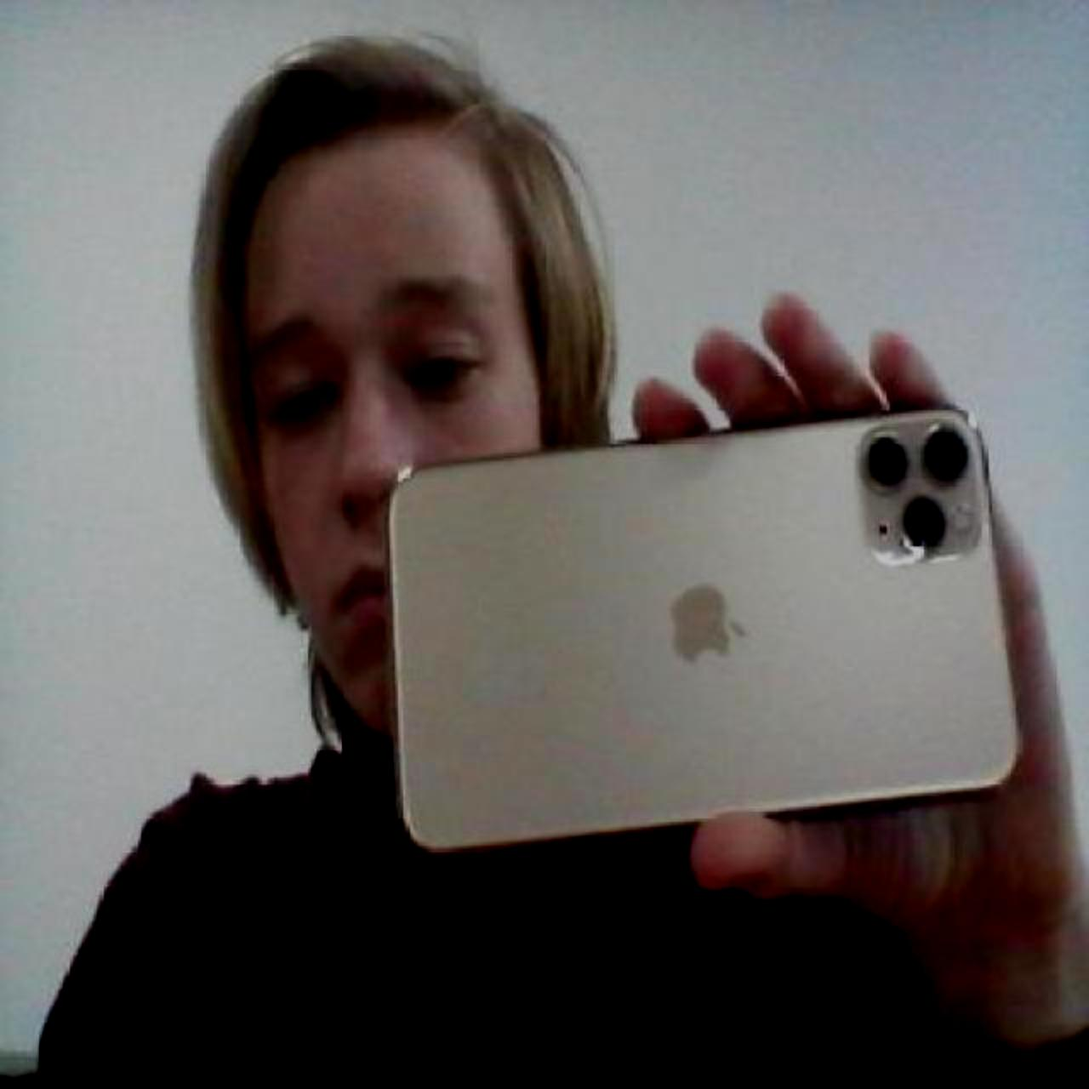phone: (360, 375, 1039, 894)
